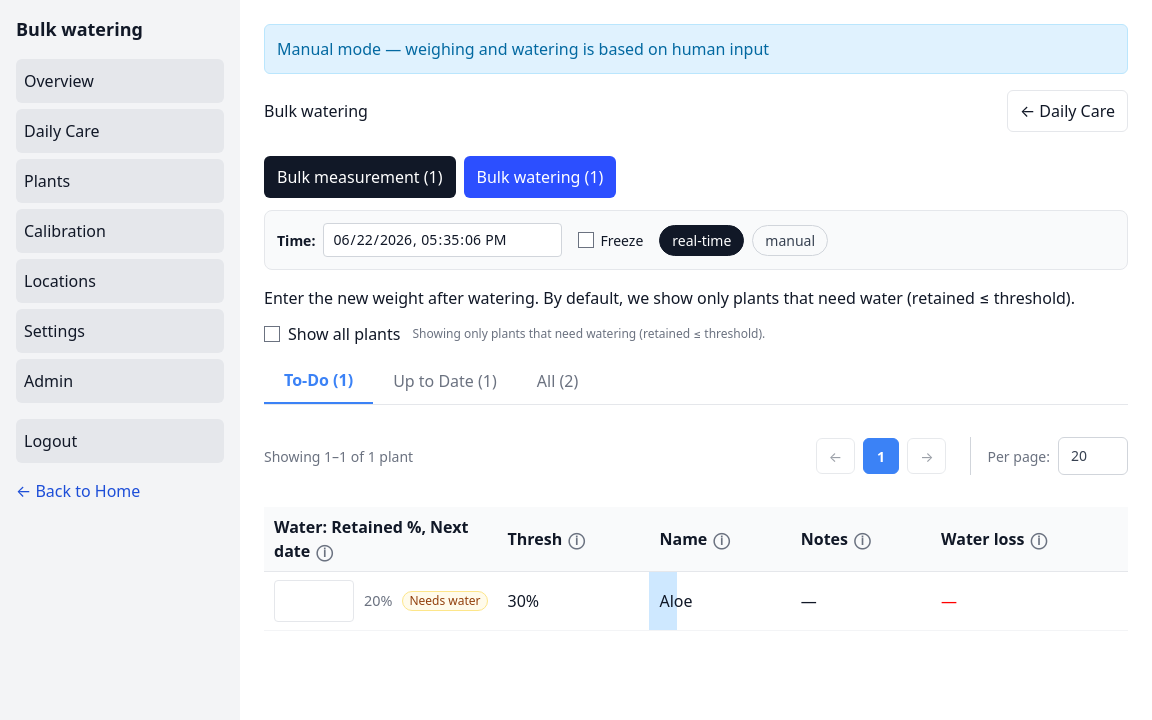
Test case: pages/BulkWatering › manual mode: deleting watering reverts plant data (Line 164)
Type "100" into the number field at [314, 601], box [274,580,354,622]
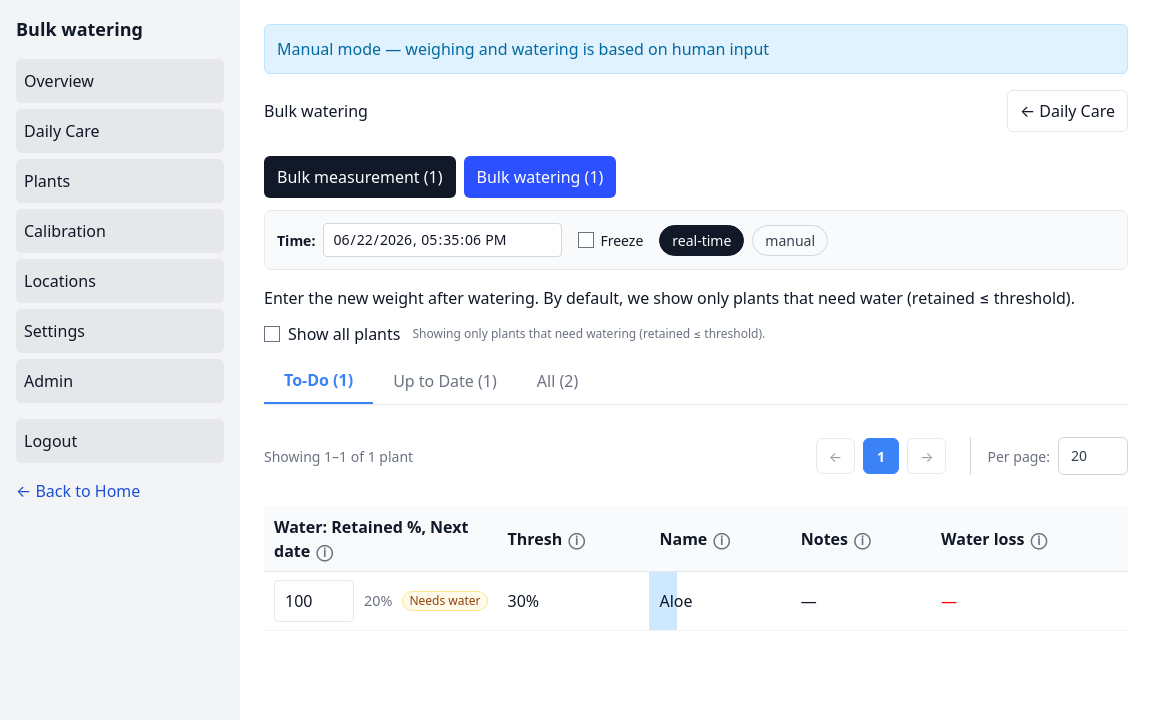
Leave the number field, box [274,580,354,622]
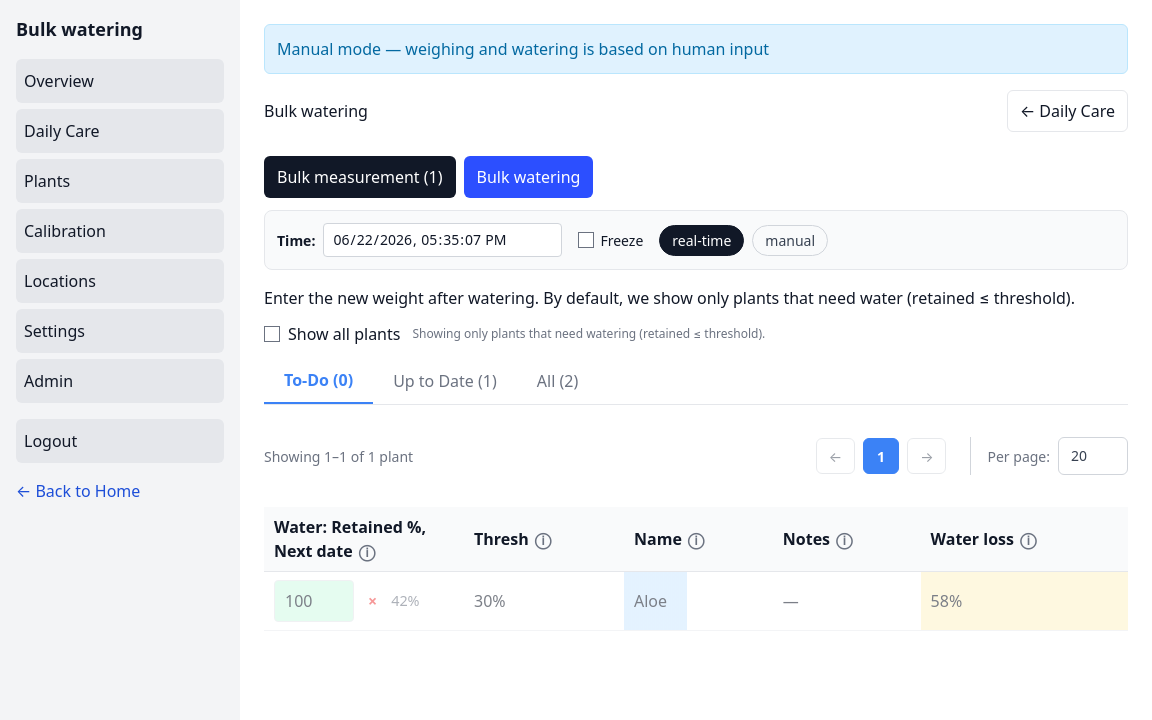
Expected: the text "42%" is shown, [391,590,420,612]
Click the button named "Delete watering" at [373, 601], box [364,587,381,615]
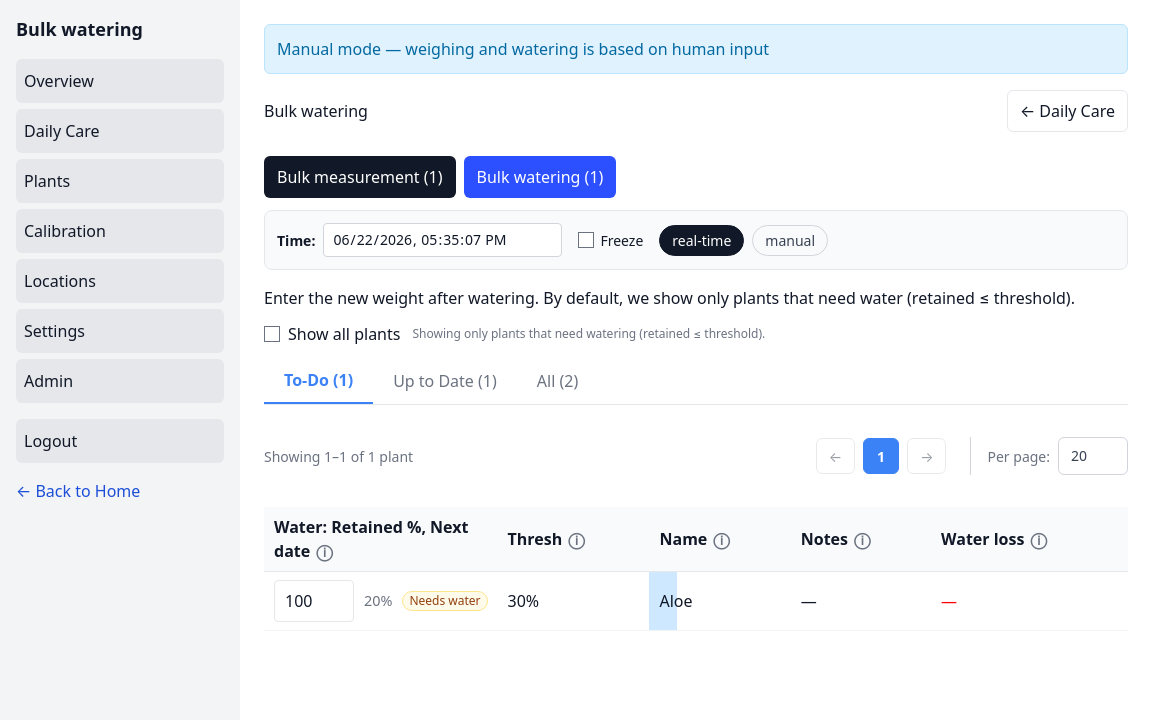
Expected: the text "42%" is gone
